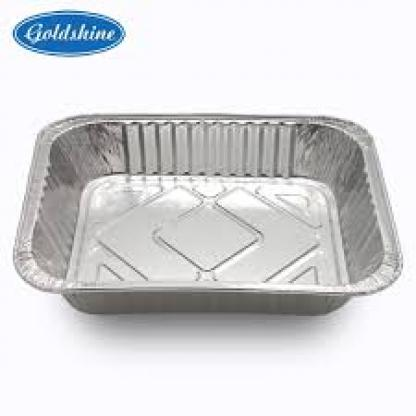METAL: (11, 113, 401, 316)
